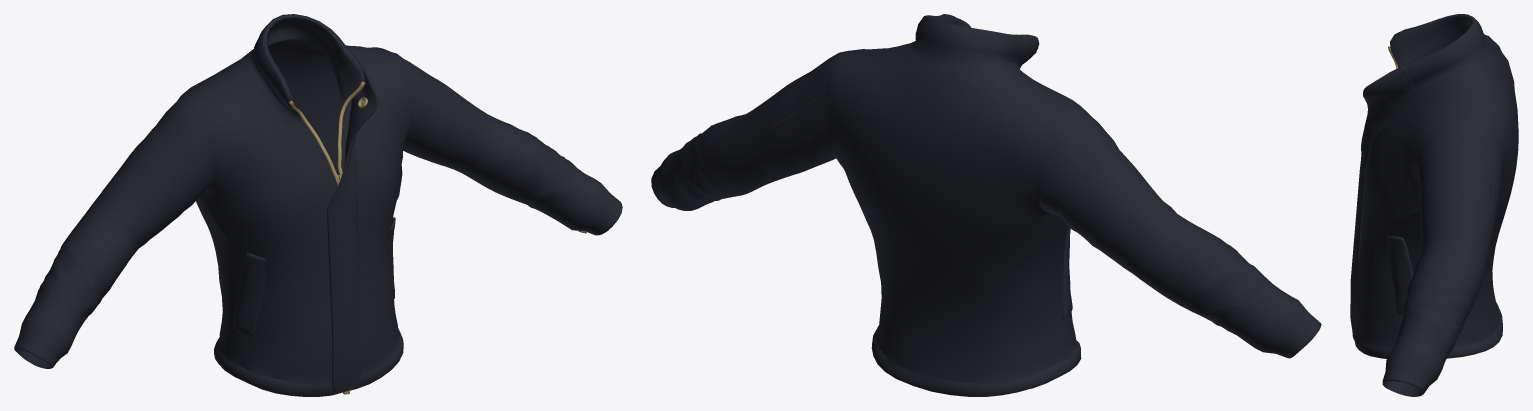
The model's file is whitson_jesse_clothing.glb.
The picture shows the model from 3 angles, left to right: view 1: azimuth 30°, elevation 25°; view 2: azimuth 150°, elevation 25°; view 3: azimuth 270°, elevation 25°; orthographic projection. The views are drawn at different scales.
Parts seen in each view (by area): view 1: Object_2; view 2: Object_2; view 3: Object_2.
Boxes of the visible parts, x1,y1,x2,y2 form: Object_2: (14, 14, 622, 396); Object_2: (651, 14, 1321, 396); Object_2: (1350, 14, 1518, 396).
Size of the model in its own units: 5.56 by 2.94 by 1.42.
Materials: 1 (1 with a texture image).
